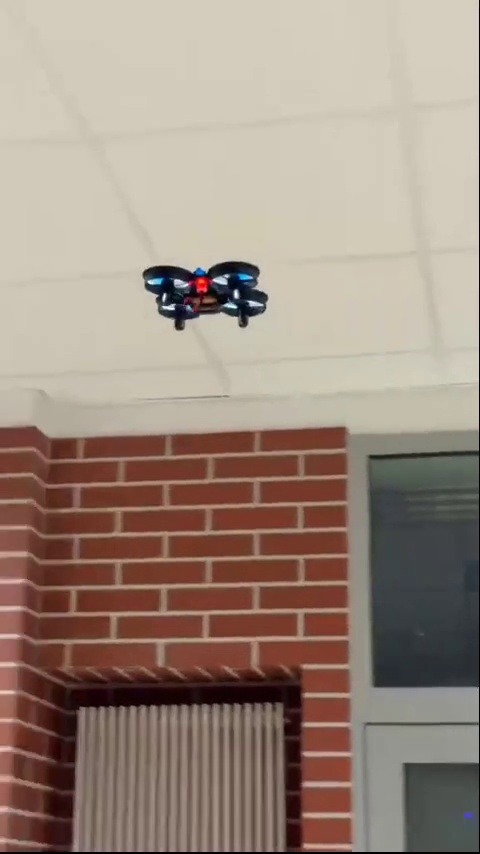drone: (132, 262, 277, 330)
